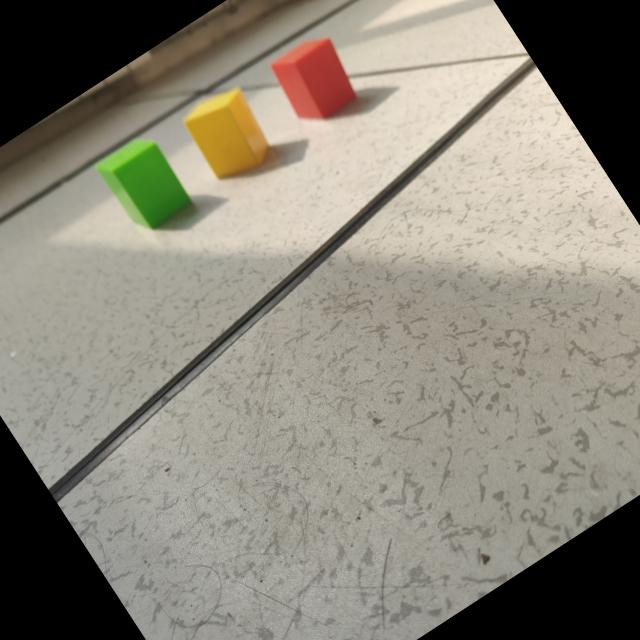green: (98, 140, 196, 231)
red: (271, 37, 359, 121)
yellow: (184, 88, 270, 180)
